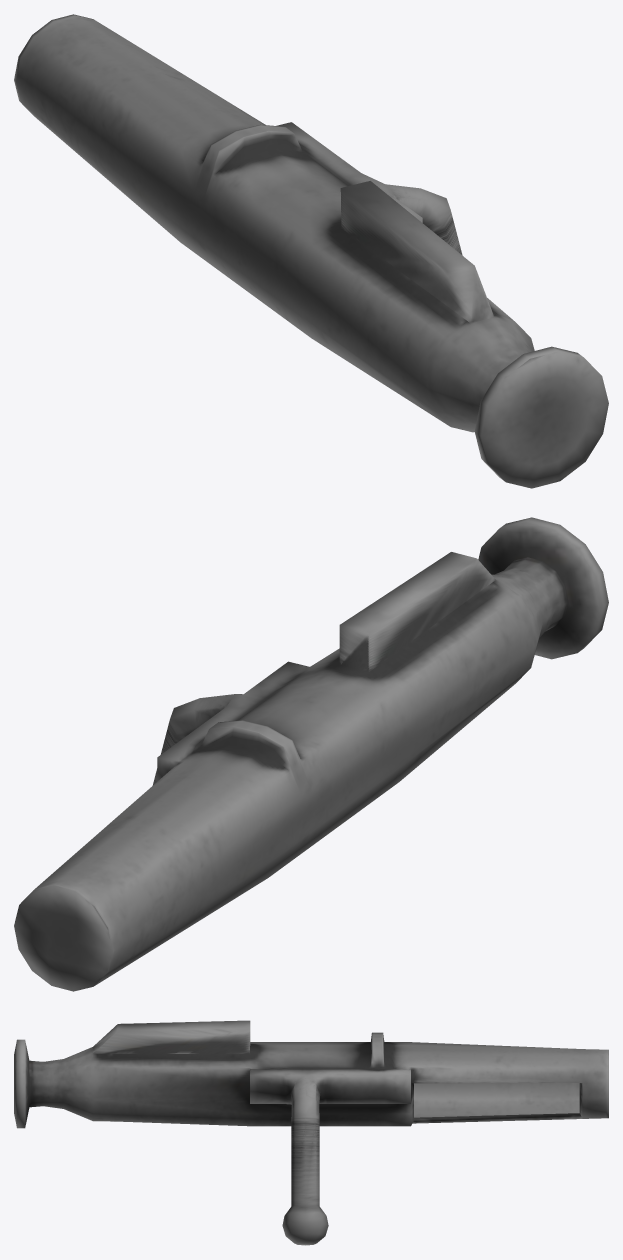
The model's file is MOSIN_bolt.glb.
3 views of the same model, one above another, from view 1: azimuth 30°, elevation 25°; view 2: azimuth 150°, elevation 25°; view 3: azimuth 270°, elevation 25° (orthographic). The views are drawn at different scales.
Parts seen in each view (by area): view 1: LP.001; view 2: LP.001; view 3: LP.001.
Part boxes in pixels (x1,y1,x2,y2): LP.001: (14,14,608,488); LP.001: (14,517,608,991); LP.001: (14,1020,608,1245).
Size of the model in its own units: 0.296 by 0.3113 by 0.9715.
1 material, 1 textured.
